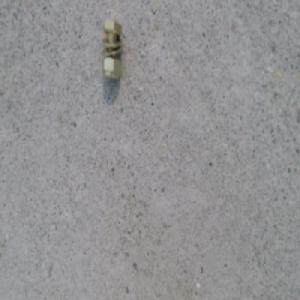BoltNutSet: (99, 18, 121, 82)
